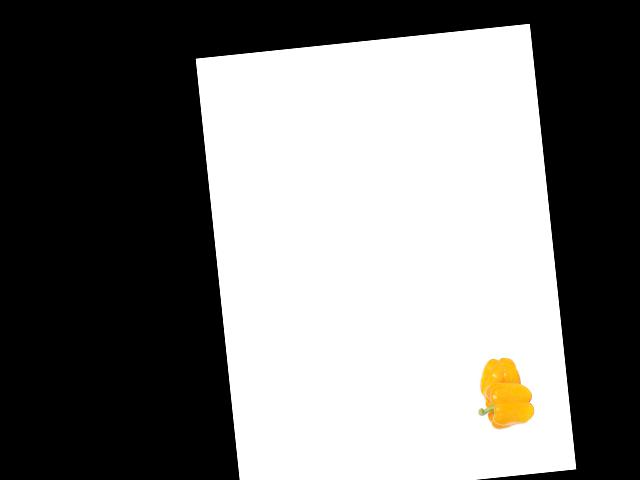bell_pepper: (475, 352, 527, 401)
